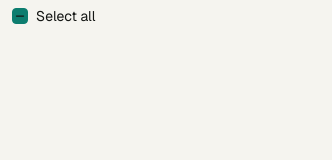
Test: Checkbox › reports indeterminate as mixed and becomes checked on click
Click the checkbox named "Select all" at (20, 16), box 12,8 -> 28,24
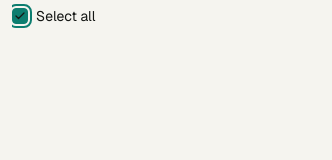
Result: the checkbox named "Select all" is checked at 12,8 -> 28,24
